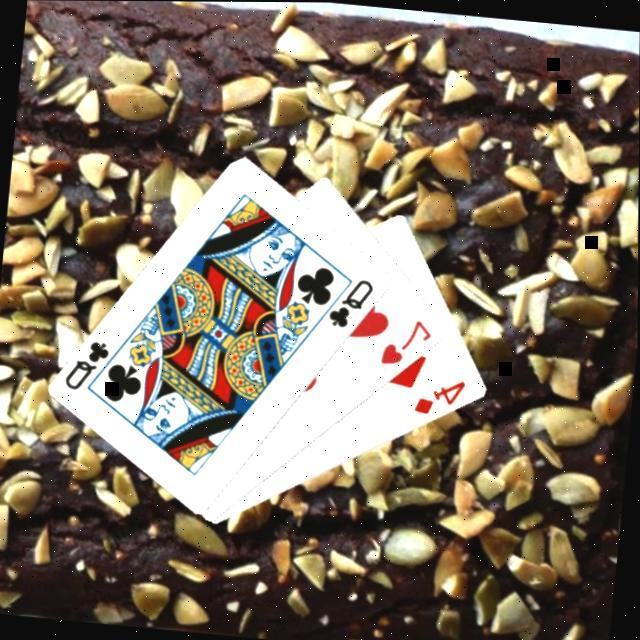4D: (412, 371, 472, 420)
7H: (379, 311, 438, 370)
QC: (63, 333, 116, 394), (327, 272, 380, 332)
